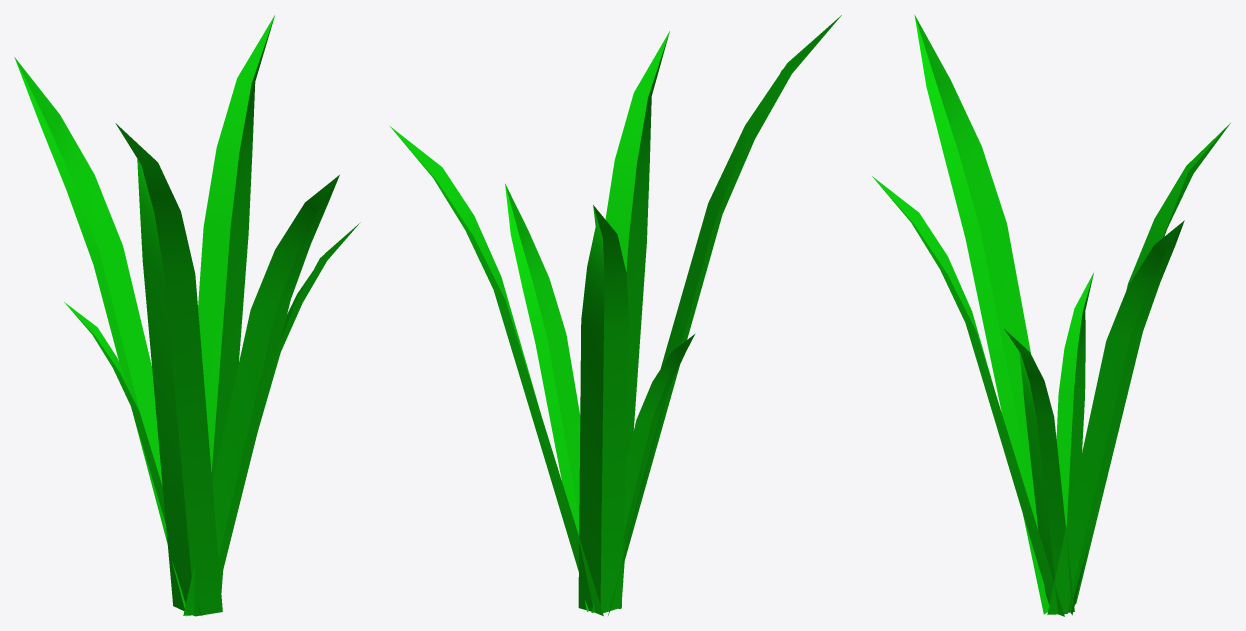
Rendered from SMALL_GRASS.fbx.
The picture shows the model from 3 angles, left to right: view 1: azimuth 30°, elevation 25°; view 2: azimuth 150°, elevation 25°; view 3: azimuth 270°, elevation 25°; orthographic projection. The views are drawn at different scales.
Parts seen in each view (by area): view 1: Plane038; view 2: Plane038; view 3: Plane038.
Boxes of the visible parts, bbox=[...] form: Plane038: bbox=[14, 15, 360, 616]; Plane038: bbox=[390, 15, 841, 616]; Plane038: bbox=[872, 14, 1230, 616].
Size of the model in its own units: 50.99 by 92.03 by 57.21.
